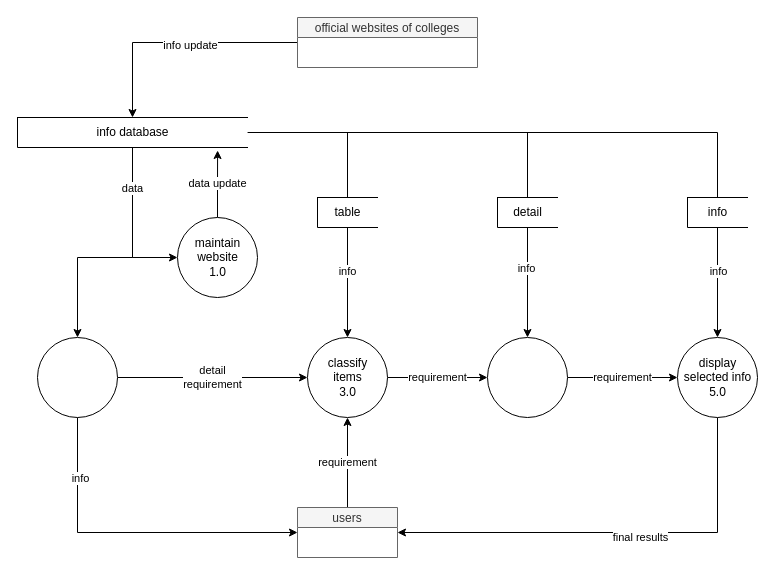
The diagram is 775 pixels wide and 575 high, and some of its shapes have lost their labels. The centre of each missing label's shape, as x and y in pixels:
display website 2.0: the point at 77,377
processing imfo attributes 4.0: the point at 527,377
